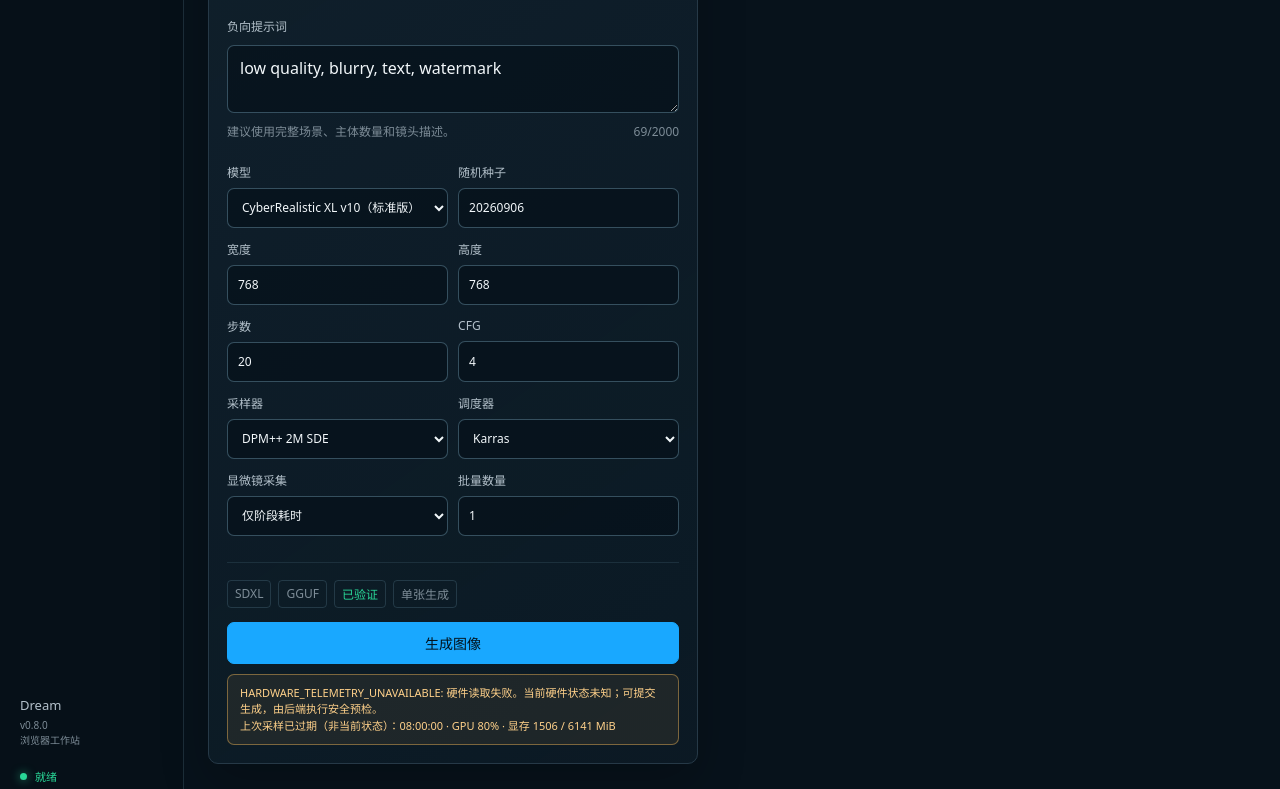
GUI-02 hardware acquisition to shell › keeps a failed sample explicitly stale, submits and recovers without fake zeroes
(page scrolled)
Check: the message named "硬件监控提示" shows "当前硬件状态未知", box [240,685,655,716]
Check: the message named "硬件监控提示" shows "上次采样已过期", box [240,718,400,733]
What coordinates should you click on to do the following:
click the button "生成图像"
I would click on:
 (453, 643)
Its box is [227,622,679,664].
(page scrolled)
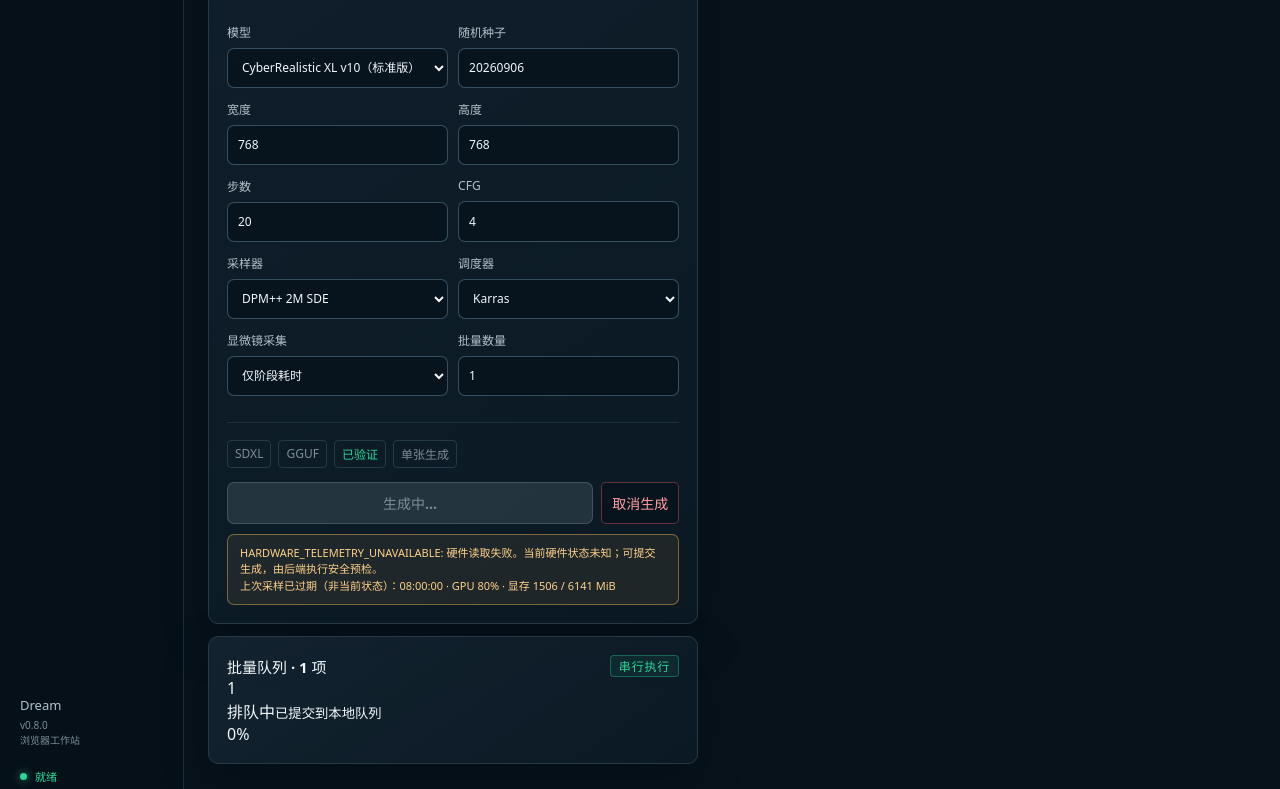
Check: the message named "硬件监控提示" is shown, box [227,534,679,605]
What coordinates should you click on to do the following:
click the button "取消生成"
I would click on:
 (640, 503)
Its box is [601,482,679,524].
Wait 3000 ms
(page scrolled)
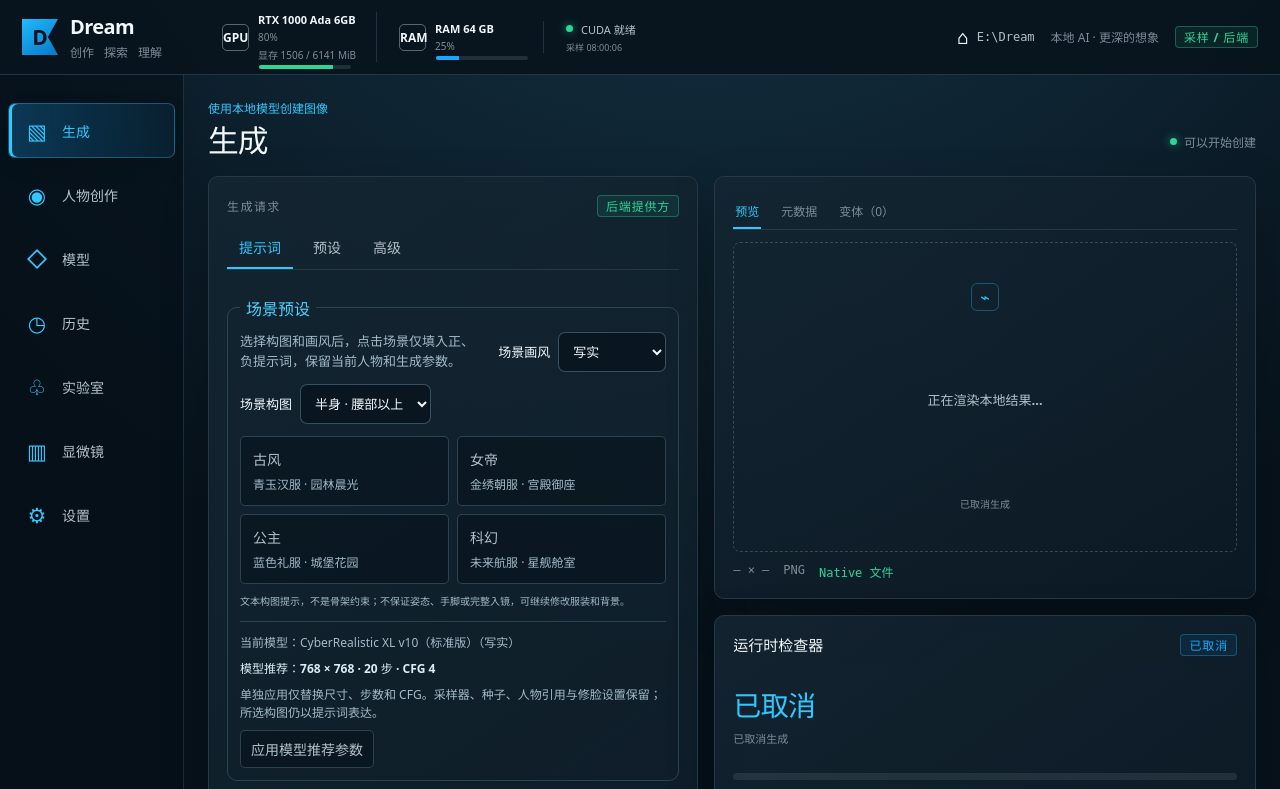
Check: the text "80%" is shown, box [258,30,278,44]
Check: the message "硬件监控提示" is gone
